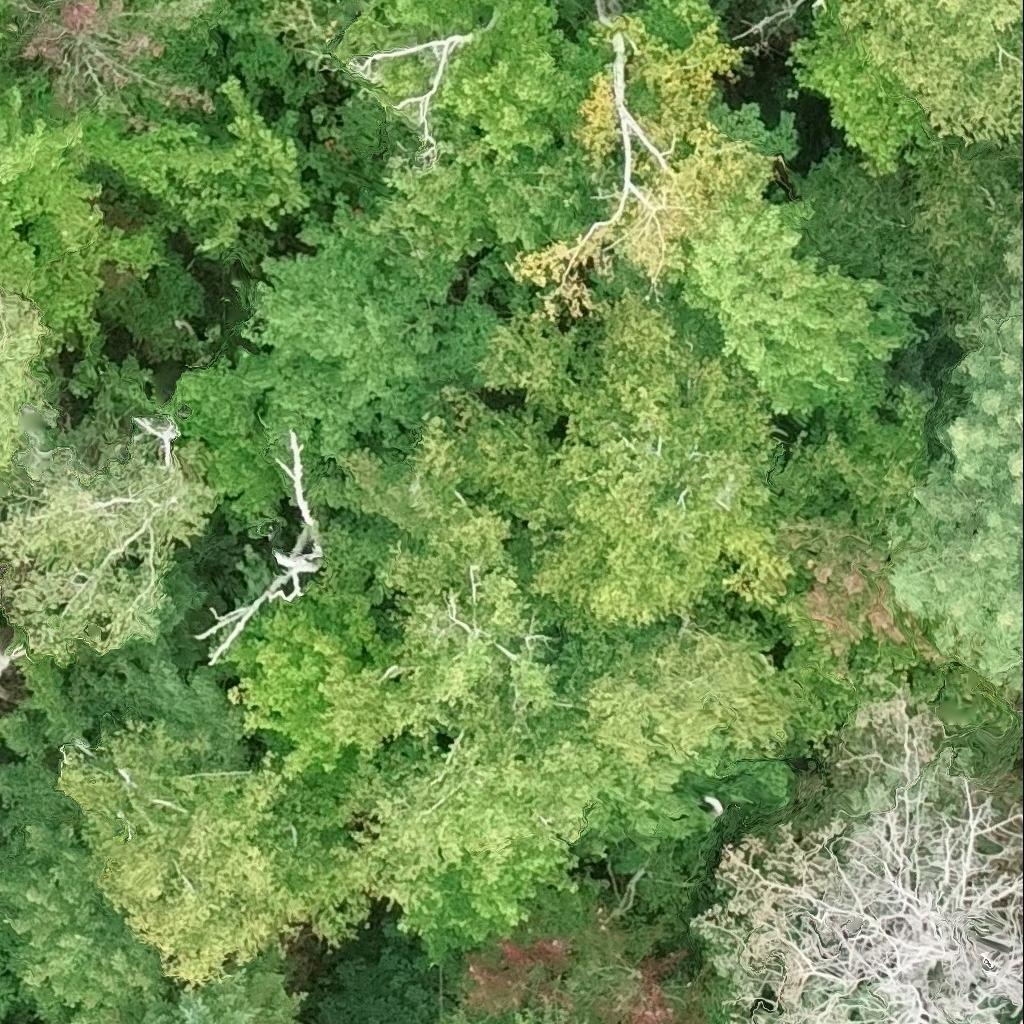crown: (455, 297, 822, 652), (332, 514, 627, 916), (175, 207, 517, 525), (763, 381, 1023, 740), (0, 0, 308, 254), (239, 591, 438, 944), (56, 724, 301, 984), (566, 602, 809, 843), (677, 192, 931, 420), (894, 243, 1023, 682), (0, 650, 254, 842), (332, 0, 608, 164), (0, 453, 229, 650), (0, 123, 170, 351), (0, 816, 167, 1023), (557, 29, 677, 286), (783, 0, 936, 176), (841, 0, 1023, 145), (348, 32, 473, 168), (409, 858, 577, 957), (0, 279, 59, 499), (142, 954, 300, 1023), (0, 83, 47, 189), (221, 0, 342, 39), (365, 47, 438, 110), (441, 995, 602, 1023)
